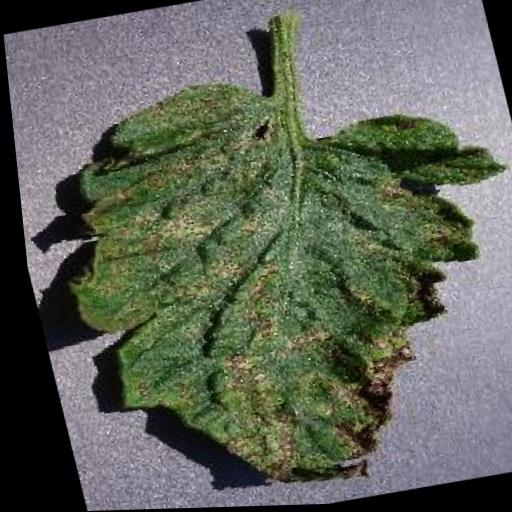Septoria: (19, 37, 512, 512)
